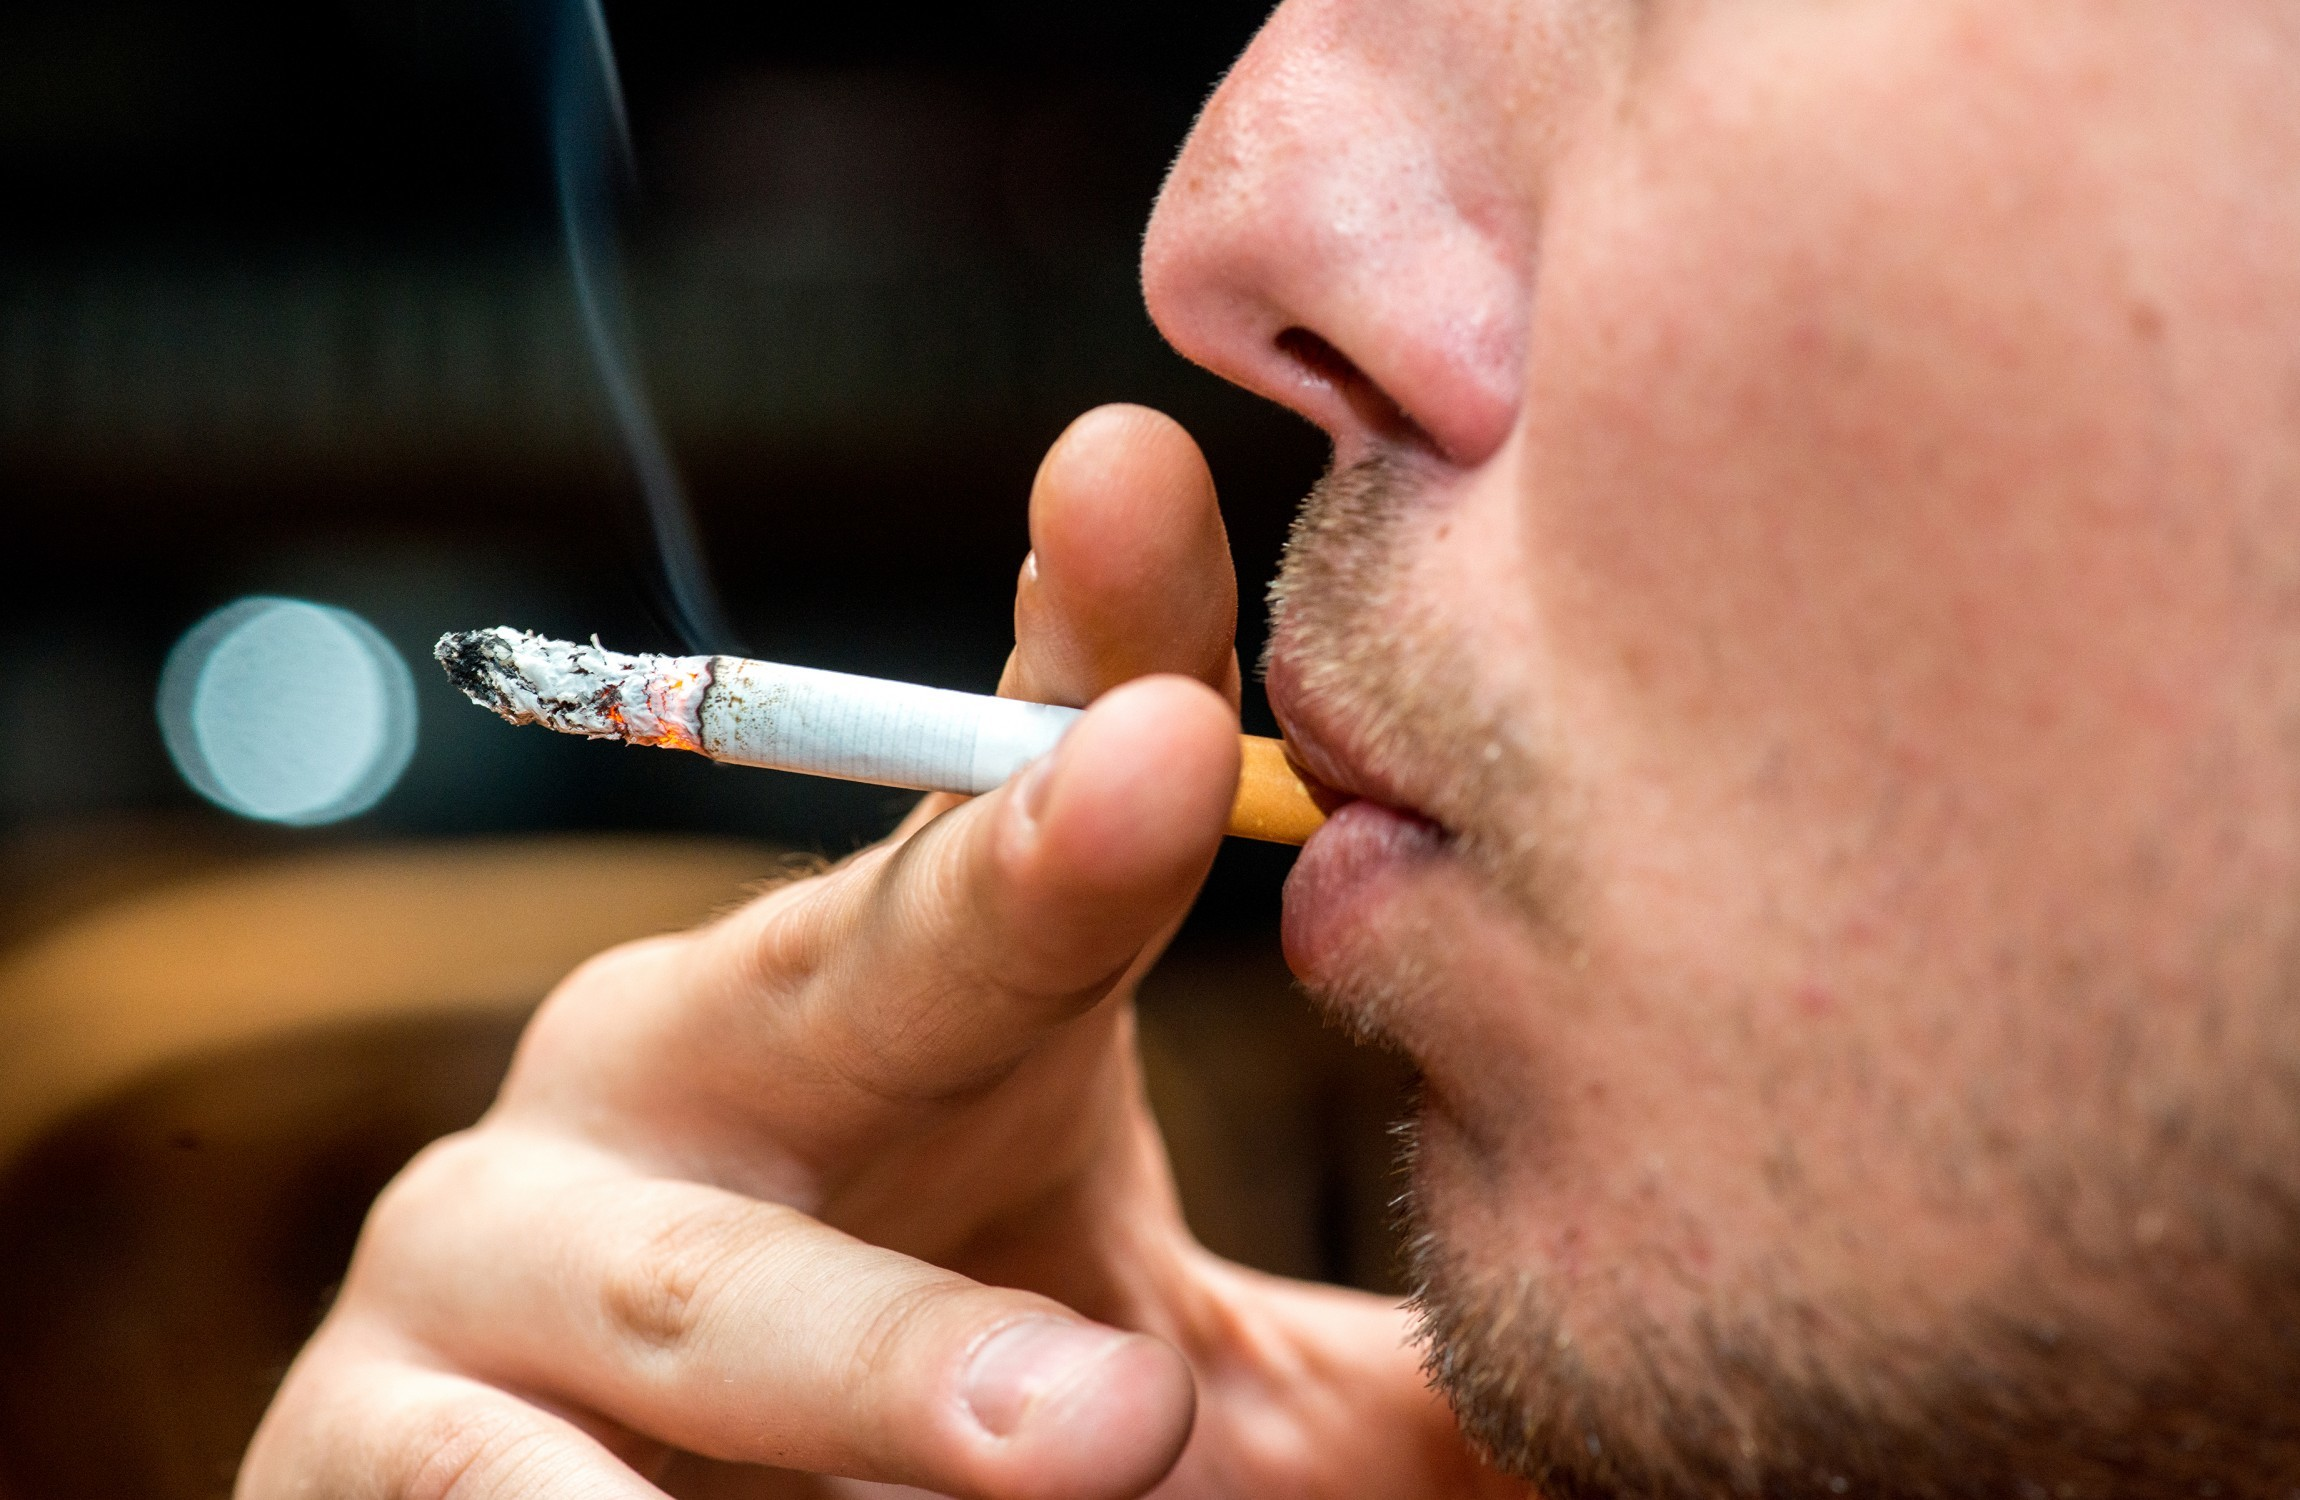cigarette: (376, 582, 1497, 887)
